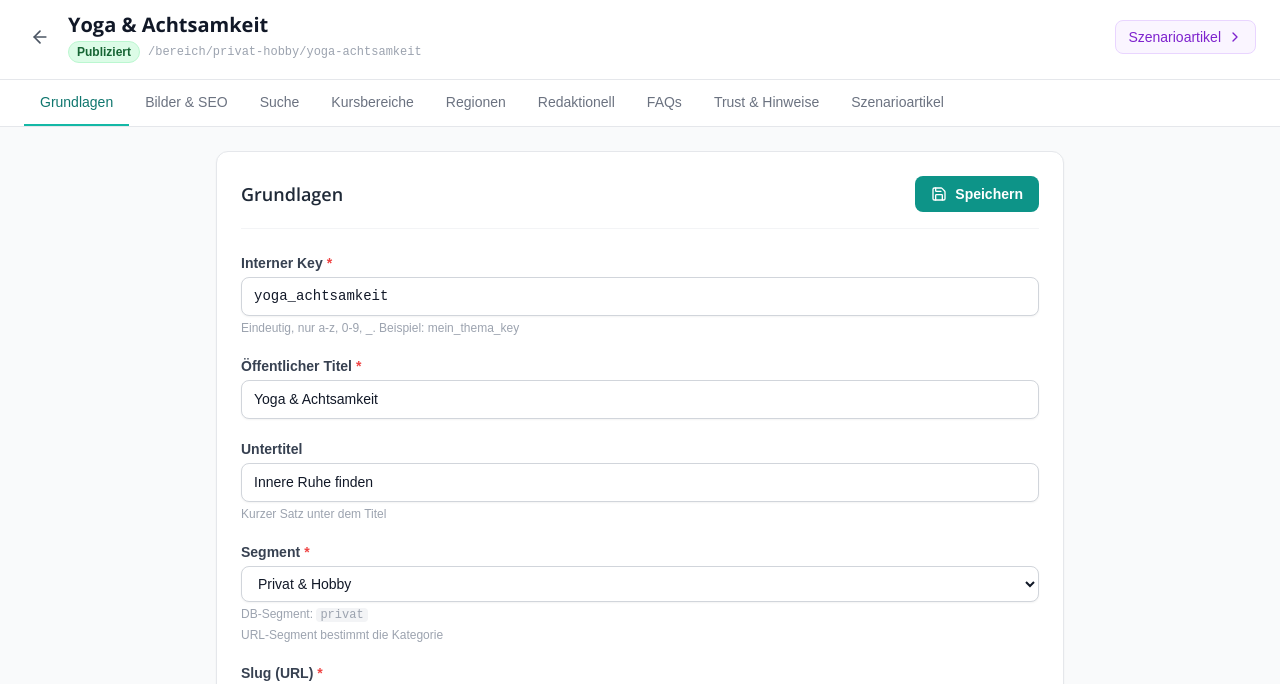
Scenario: Admin lädt bestehende Trust-/CTA-Texte › zeigt den nicht-editierbaren Hinweis zur automatischen Kurszahl
The image size is (1280, 684).
Click the button "Trust & Hinweise": click(767, 103) [698,80,835,126]
(page scrolled)
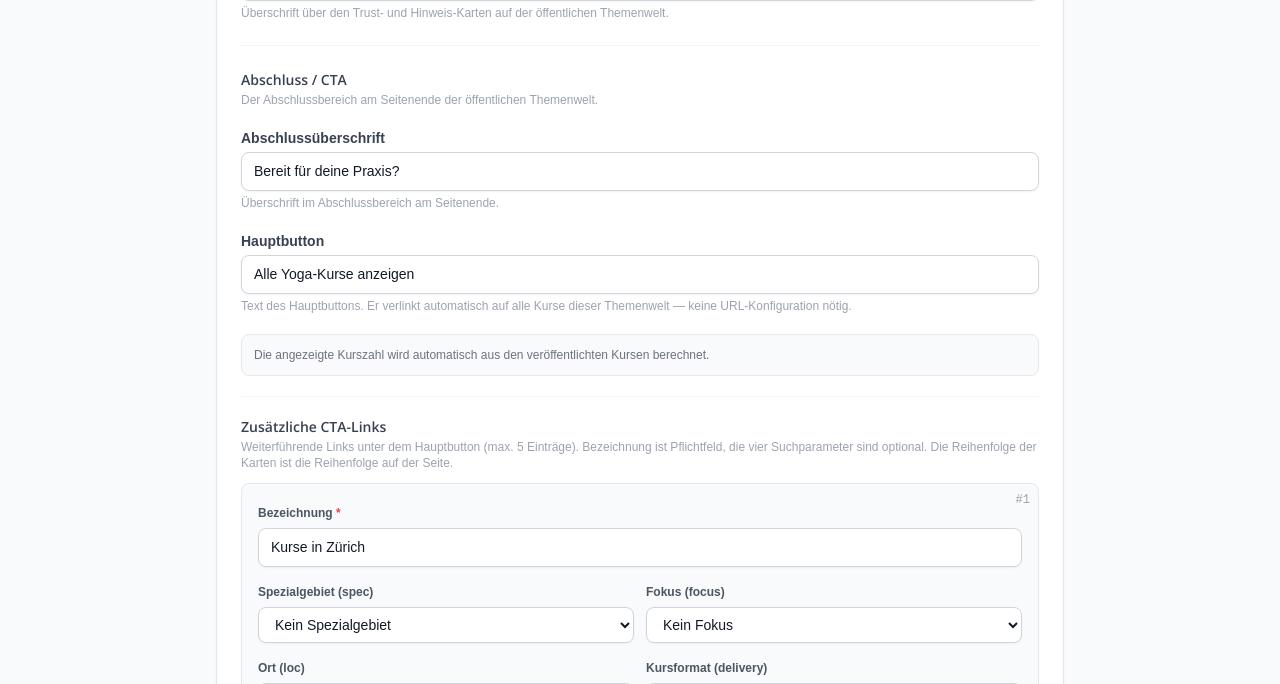
Now the text "Die angezeigte Kurszahl wird automatisch aus den veröffentlichten Kursen berechnet." is shown, box [254,348,709,362]
